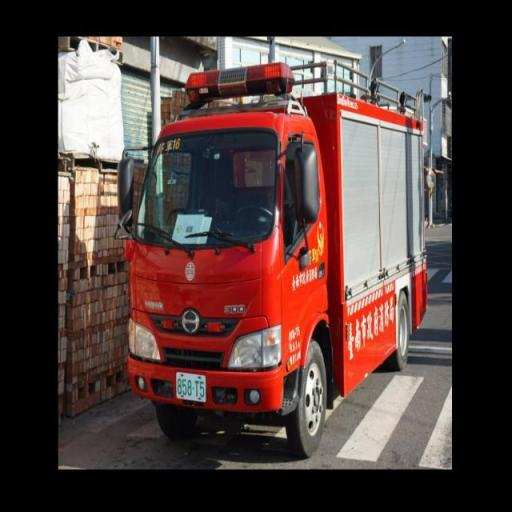fire truck: (122, 36, 436, 477)
